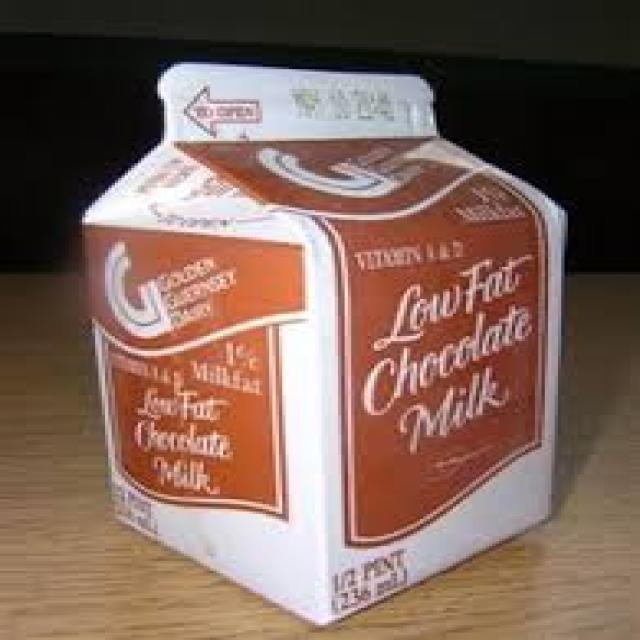cardboard: (76, 58, 564, 622)
